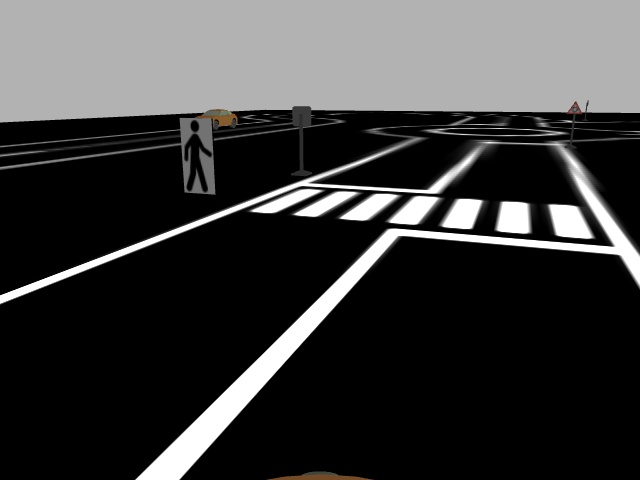pedestrian: (177, 115, 218, 197)
